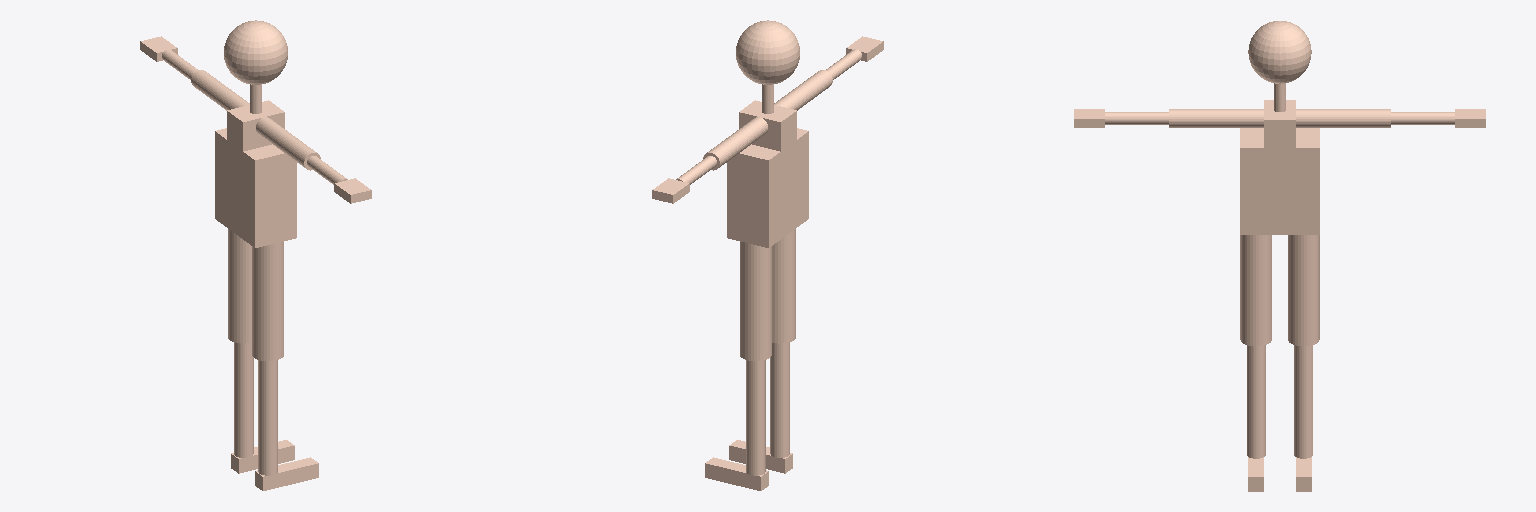
--- Render facts (derived) ---
3 views of the same robot in one strip: view 1: azimuth 30°, elevation 25°; view 2: azimuth 150°, elevation 25°; view 3: azimuth 270°, elevation 25° (orthographic).
Robot: HumanModel — 55 links, 54 joints (54 revolute); root link Pelvis; default pose: all joints at 0.
Links seen in each view (by area): view 1: MiddleTrunk, RightUpperLeg, Head, LeftUpperLeg, Pelvis, RightLowerLeg, LeftLowerLeg, UpperTrunk_Middle, RightFoot, RightUpperArm, LeftFoot, LeftUpperArm (+2 smaller); view 2: MiddleTrunk, LeftUpperLeg, Head, RightUpperLeg, Pelvis, LeftLowerLeg, RightLowerLeg, UpperTrunk_Middle, LeftFoot, LeftUpperArm, RightFoot, RightUpperArm (+2 smaller); view 3: MiddleTrunk, RightUpperLeg, LeftUpperLeg, Head, Pelvis, RightLowerLeg, LeftLowerLeg, UpperTrunk_Middle, RightUpperArm, LeftUpperArm, RightForeArm, LeftForeArm (+6 smaller).
Link boxes in pixels (x1,y1,x2,y2): MiddleTrunk: [215, 128, 296, 218]; RightUpperLeg: [252, 241, 283, 360]; Head: [224, 20, 287, 84]; LeftUpperLeg: [228, 229, 251, 343]; Pelvis: [215, 190, 296, 247]; RightLowerLeg: [258, 360, 277, 475]; LeftLowerLeg: [234, 342, 253, 457]; UpperTrunk_Middle: [227, 100, 284, 151]; RightFoot: [255, 457, 318, 490]; RightUpperArm: [272, 129, 320, 170]; LeftFoot: [231, 440, 294, 473]; LeftUpperArm: [191, 70, 235, 108]; MiddleTrunk: [727, 128, 808, 218]; LeftUpperLeg: [740, 241, 771, 360]; Head: [736, 20, 799, 84]; RightUpperLeg: [772, 229, 795, 343]; Pelvis: [727, 190, 808, 247]; LeftLowerLeg: [746, 360, 765, 475]; RightLowerLeg: [770, 342, 789, 457]; UpperTrunk_Middle: [739, 100, 796, 151]; LeftFoot: [705, 457, 768, 490]; LeftUpperArm: [703, 129, 751, 170]; RightFoot: [729, 440, 792, 473]; RightUpperArm: [788, 70, 832, 108]; MiddleTrunk: [1240, 128, 1319, 205]; RightUpperLeg: [1240, 235, 1271, 345]; LeftUpperLeg: [1288, 235, 1319, 345]; Head: [1248, 21, 1311, 83]; Pelvis: [1240, 206, 1319, 234]; RightLowerLeg: [1247, 345, 1265, 458]; LeftLowerLeg: [1294, 345, 1312, 458]; UpperTrunk_Middle: [1264, 100, 1295, 147]; RightUpperArm: [1169, 109, 1231, 127]; LeftUpperArm: [1328, 109, 1390, 127]; RightForeArm: [1105, 112, 1168, 124]; LeftForeArm: [1391, 112, 1454, 124].
Bounding box of the posed robot: 0.267 × 1.3 × 1.55 m (x, y, z).
Geometry: primitives only (box / cylinder / sphere), no mesh files.

URDF robot description (HumanModel):
<robot name="HumanModel">

    <material name="color">
        <color rgba="0.9922 00.8667 0.7922 1"/>
    </material>

    <!--LINKS-->

##############################################################################
# PELVI  ORIGIN
##############################################################################
	<!--Link base (1)-->
	<link name="Pelvis">
        <inertial>
            <mass value="4.976"/>
			<!--COM origin wrt pHipOrigin-->
            <origin xyz="0           0    0.05" rpy="0 0 0" />
            <inertia ixx="0.029678" iyy="0.011854" izz="0.033653" ixy="0" ixz="0" iyz="0"/>
        </inertial>

        <visual>
			<!--box origin wrt pHipOrigin-->
            <origin xyz="0           0    0.05" rpy="0 0 0" />
            <geometry>
                <box size="0.15     0.25    0.1"/>
            </geometry>
            <material name="color"/>
        </visual>

        <collision>
			<!--box origin wrt pHipOrigin-->
            <origin xyz="0           0    0.05" rpy="0 0 0" />
            <geometry>
                <box size="0.15     0.25    0.1"/>
            </geometry>
        </collision>
    </link>
##############################################################################
# PELVI - MIDDLETRUNK
##############################################################################
    <!--Chain from (2) to (7)-->
	<link name="MiddleTrunk_f1">
        <inertial>
            <mass value="0"/>
            <origin xyz="0 0 0" rpy="0 0 0" />
            <inertia ixx="0" iyy="0" izz="0" ixy="0" ixz="0" iyz="0"/>
        </inertial>
    </link>
	<link name="MiddleTrunk_f2">
        <inertial>
            <mass value="0"/>
            <origin xyz="0 0 0" rpy="0 0 0" />
            <inertia ixx="0" iyy="0" izz="0" ixy="0" ixz="0" iyz="0"/>
        </inertial>
    </link>
##############################################################################
# MIDDLETRUNK
##############################################################################
	<link name="MiddleTrunk">
        <inertial>
            <mass value="6.3444"/>
			<!--COM origin wrt jL5S1-->
            <origin xyz="0           0    0.1" rpy="0 0 0" />
            <inertia ixx="0.018868" iyy="0.014872" izz="0.024177" ixy="0" ixz="0" iyz="0"/>
        </inertial>

        <visual>
			<!--box origin origin wrt jL5S1-->
            <origin xyz="0           0    0.1" rpy="0 0 0" />
            <geometry>
                <box size="0.15    0.25    0.2"/>
            </geometry>
            <material name="color"/>
        </visual>

        <collision>
			<!--box origin origin wrt jL5S1-->
            <origin xyz="0           0    0.1" rpy="0 0 0" />
            <geometry>
                <box size="0.15    0.25    0.2"/>
            </geometry>
        </collision>
    </link>
##############################################################################
# MIDDLETRUNK - UPPERTRUNK_MIDDLE
##############################################################################
	<link name="UpperTrunk_Middle_f1">
        <inertial>
            <mass value="0"/>
            <origin xyz="0 0 0" rpy="0 0 0" />
            <inertia ixx="0" iyy="0" izz="0" ixy="0" ixz="0" iyz="0"/>
        </inertial>
    </link>
	<link name="UpperTrunk_Middle_f2">
        <inertial>
            <mass value="0"/>
            <origin xyz="0 0 0" rpy="0 0 0" />
            <inertia ixx="0" iyy="0" izz="0" ixy="0" ixz="0" iyz="0"/>
        </inertial>
    </link>
##############################################################################
# UPPERTRUNK_MIDDLE
##############################################################################
	<link name="UpperTrunk_Middle">
        <inertial>
            <mass value="6.3444"/>
			<!--COM origin wrt jL4L3-->
            <origin xyz="0       0    0.05" rpy="0 0 0" />
            <inertia ixx="0.017989" iyy="0.013993" izz="0.024177" ixy="0" ixz="0" iyz="0"/>
        </inertial>

        <visual>
			<!--box origin origin wrt jL4L3-->
            <origin xyz="0       0    0.05" rpy="0 0 0" />
            <geometry>
                <box size="0.15   0.1  0.1"/>
            </geometry>
            <material name="color"/>
        </visual>

        <collision>
			<!--box origin origin wrt jL4L3-->
            <origin xyz="0       0    0.05" rpy="0 0 0" />
            <geometry>
                <box size="0.15  0.1  0.1"/>
            </geometry>
        </collision>
    </link>
##############################################################################
# UPPERTRUNK_MIDDLE - UPPERTRUNK_RIGHT
##############################################################################
	<link name="UpperTrunk_Right_f1">
        <inertial>
            <mass value="0"/>
            <origin xyz="0 0 0" rpy="0 0 0" />
            <inertia ixx="0" iyy="0" izz="0" ixy="0" ixz="0" iyz="0"/>
        </inertial>
    </link>
	<link name="UpperTrunk_Right_f2">
        <inertial>
            <mass value="0"/>
            <origin xyz="0 0 0" rpy="0 0 0" />
            <inertia ixx="0" iyy="0" izz="0" ixy="0" ixz="0" iyz="0"/>
        </inertial>
    </link>
##############################################################################
# UPPERTRUNK_RIGHT
##############################################################################
	<link name="UpperTrunk_Right">
        <inertial>
            <mass value="6.3444"/>
			<!--COM origin wrt jL4L3-->
            <origin xyz="0       -0.05    0" rpy="1.5708 0 0" />
            <inertia ixx="0.017989" iyy="0.013993" izz="0.024177" ixy="0" ixz="0" iyz="0"/>
        </inertial>

        <visual>
			<!--box origin origin wrt jL4L3-->
            <origin xyz="0    -0.05   0 " rpy="1.5708 0 0" />
            <geometry>
                <cylinder length="0.1" radius="0.03"/>
            </geometry>
            <material name="color"/>
        </visual>

        <collision>
			<!--box origin origin wrt jL4L3-->
            <origin xyz="0    -0.05    0" rpy="1.5708 0 0" />
            <geometry>
                <cylinder length="0.1" radius="0.03"/>
            </geometry>
        </collision>
    </link>
##############################################################################
# UPPERTRUNK_MIDDLE - UPPERTRUNK_LEFT
##############################################################################
	<link name="UpperTrunk_Left_f1">
        <inertial>
            <mass value="0"/>
            <origin xyz="0 0 0" rpy="0 0 0" />
            <inertia ixx="0" iyy="0" izz="0" ixy="0" ixz="0" iyz="0"/>
        </inertial>
    </link>
	<link name="UpperTrunk_Left_f2">
        <inertial>
            <mass value="0"/>
            <origin xyz="0 0 0" rpy="0 0 0" />
            <inertia ixx="0" iyy="0" izz="0" ixy="0" ixz="0" iyz="0"/>
        </inertial>
    </link>    
##############################################################################
# UPPERTRUNK_LEFT
##############################################################################
	<link name="UpperTrunk_Left">
        <inertial>
            <mass value="6.3444"/>
			<!--COM origin wrt jL4L3-->
            <origin xyz="0       0.05    0" rpy="0 0 0" />
            <inertia ixx="0.017989" iyy="0.013993" izz="0.024177" ixy="0" ixz="0" iyz="0"/>
        </inertial>

        <visual>
			<!--box origin origin wrt jL4L3-->
            <origin xyz="0    0.05    0" rpy="1.5708 0 0" />
            <geometry>
                <cylinder length="0.1" radius="0.03"/>
            </geometry>
            <material name="color"/>
        </visual>

        <collision>
			<!--box origin origin wrt jL4L3-->
            <origin xyz="0    0.05    0" rpy="1.5708 0 0" />
            <geometry>
                <cylinder length="0.1" radius="0.03"/>
            </geometry>
        </collision>
    </link>
##############################################################################
# UPPERTRUNK - NECK
##############################################################################	
	<link name="Neck_f1">
        <inertial>
            <mass value="0"/>
            <origin xyz="0 0 0" rpy="0 0 0" />
            <inertia ixx="0" iyy="0" izz="0" ixy="0" ixz="0" iyz="0"/>
        </inertial>
    </link>
	<link name="Neck_f2">
        <inertial>
            <mass value="0"/>
            <origin xyz="0 0 0" rpy="0 0 0" />
            <inertia ixx="0" iyy="0" izz="0" ixy="0" ixz="0" iyz="0"/>
        </inertial>
    </link>
##############################################################################
# NECK
##############################################################################	
	<link name="Neck">
        <inertial>
            <mass value="0.7464"/>
			<!--COM origin wrt jT1C7-->
            <origin xyz="0           0    0.05" rpy="0 0 0" />
            <inertia ixx="0.0006461" iyy="0.0006461" izz="0.00030124" ixy="0" ixz="0" iyz="0"/>
        </inertial>

        <visual>
			<!--box origin wrt jT1C7-->
            <origin xyz="0           0    0.05" rpy="0 0 0" />
            <geometry>
		<cylinder length="0.1" radius="0.02"/>
            </geometry>
            <material name="color"/>
        </visual>

        <collision>
			<!--box origin wrt jT1C7-->
            <origin xyz="0           0    0.05" rpy="0 0 0" />
            <geometry>
                <cylinder length="0.1" radius="0.02"/>
            </geometry>
        </collision>
    </link>
##############################################################################
# NECK - HEAD
##############################################################################	
	<link name="Head_f1">
        <inertial>
            <mass value="0"/>
            <origin xyz="0 0 0" rpy="0 0 0" />
            <inertia ixx="0" iyy="0" izz="0" ixy="0" ixz="0" iyz="0"/>
        </inertial>
    </link>
	<link name="Head_f2">
        <inertial>
            <mass value="0"/>
            <origin xyz="0 0 0" rpy="0 0 0" />
            <inertia ixx="0" iyy="0" izz="0" ixy="0" ixz="0" iyz="0"/>
        </inertial>
    </link>
##############################################################################
# HEAD
##############################################################################	
	<link name="Head">
        <inertial>
            <mass value="2.2392"/>
			<!--COM origin wrt jC1Head-->
            <origin xyz="0           0    0.1" rpy="0 0 0" />
            <inertia ixx="0.0070955" iyy="0.0070955" izz="0.0070955" ixy="0" ixz="0" iyz="0"/>
        </inertial>

        <visual>
			<!--boc origin wrt jC1Head-->
            <origin xyz="0           0    0.1" rpy="0 0 0" />
            <geometry>
                <sphere radius="0.1"/>
            </geometry>
            <material name="color"/>
        </visual>

        <collision>
			<!--box origin wrt jC1Head-->
            <origin xyz="0           0    0.1" rpy="0 0 0" />
            <geometry>
                <sphere radius="0.1"/>
            </geometry>
        </collision>
    </link>


##############################################################################
# RIGHT SHOULDER
##############################################################################

	<!--Chain from (8) to (11)-->
	<link name="RightShoulder_f1">
        <inertial>
            <mass value="0"/>
            <origin xyz="0 0 0" rpy="0 0 0" />
            <inertia ixx="0" iyy="0" izz="0" ixy="0" ixz="0" iyz="0"/>
        </inertial>
    </link>
	<link name="RightShoulder_f2">
        <inertial>
            <mass value="0"/>
            <origin xyz="0 0 0" rpy="0 0 0" />
            <inertia ixx="0" iyy="0" izz="0" ixy="0" ixz="0" iyz="0"/>
        </inertial>
    </link>
##############################################################################
# RIGHT UPPERARM
##############################################################################
    <link name="RightUpperArm">
        <inertial>
            <mass value="1.866"/>
			<!--COM origin wrt jRightShoulder-->
            <origin xyz="0    -0.1           0" rpy="0 0 0" />
            <inertia ixx="0.011736" iyy="0.00080917" izz="0.011736" ixy="0" ixz="0" iyz="0"/>
        </inertial>

        <visual>
			<!--box origin wrt jRightShoulder. RPY rotated of pi/2.-->
            <origin xyz="0    -0.1           0" rpy="1.5708 0 0" />
            <geometry>
                <cylinder length="0.2" radius="0.03"/>
            </geometry>
            <material name="color"/>
        </visual>

        <collision>
			<!--box origin wrt jRightShoulder. RPY rotated of pi/2.-->
            <origin xyz="0    -0.1           0" rpy="1.5708 0 0" />
            <geometry>
                <cylinder length="0.2" radius="0.03"/>
            </geometry>
        </collision>
    </link>
##############################################################################
# RIGHT ELBOW
##############################################################################
	<link name="RightForeArm_f1">
        <inertial>
            <mass value="0"/>
            <origin xyz="0 0 0" rpy="0 0 0" />
            <inertia ixx="0" iyy="0" izz="0" ixy="0" ixz="0" iyz="0"/>
        </inertial>
    </link>
	<link name="RightForeArm_f2">
        <inertial>
            <mass value="0"/>
            <origin xyz="0 0 0" rpy="0 0 0" />
            <inertia ixx="0" iyy="0" izz="0" ixy="0" ixz="0" iyz="0"/>
        </inertial>
    </link>
##############################################################################
# RIGHT FOREARM
##############################################################################
	<link name="RightForeArm">
        <inertial>
            <mass value="1.244"/>
			<!--COM origin wrt jRightElbow-->
            <origin xyz="0    -0.1           0" rpy="0 0 0" />
            <inertia ixx="0.0052508" iyy="0.00023975" izz="0.0052508" ixy="0" ixz="0" iyz="0"/>
        </inertial>

        <visual>
			<!--box origin wrt jRightElbow. RPY rotated of pi/2.-->
            <origin xyz="0    -0.1           0" rpy="1.5708 0 0" />
            <geometry>
                <cylinder length="0.2" radius="0.02"/>
            </geometry>
            <material name="color"/>
        </visual>

        <collision>
			<!--box origin wrt jRightElbow. RPY rotated of pi/2.-->
            <origin xyz="0    -0.1           0" rpy="1.5708 0 0" />
            <geometry>
                <cylinder length="0.2" radius="0.02"/>
            </geometry>
        </collision>
    </link>
##############################################################################
# RIGHT WRIST
##############################################################################
	<link name="RightHand_f1">
        <inertial>
            <mass value="0"/>
            <origin xyz="0 0 0" rpy="0 0 0" />
            <inertia ixx="0" iyy="0" izz="0" ixy="0" ixz="0" iyz="0"/>
        </inertial>
    </link>
	<link name="RightHand_f2">
        <inertial>
            <mass value="0"/>
            <origin xyz="0 0 0" rpy="0 0 0" />
            <inertia ixx="0" iyy="0" izz="0" ixy="0" ixz="0" iyz="0"/>
        </inertial>
    </link>
##############################################################################
# RIGHT HAND
##############################################################################
	<link name="RightHand">
        <inertial>
            <mass value="0.3732"/>
			<!--COM origin wrt jRightWrist-->
            <origin xyz="0   -0.05           0" rpy="0 0 0" />
            <inertia ixx="0.00091713" iyy="0.00043425" izz="0.0012555" ixy="0" ixz="0" iyz="0"/>
        </inertial>

        <visual>
			<!--box origin wrt jRightWrist-->
            <origin xyz="0   -0.05           0" rpy="0 0 0" />
            <geometry>
                <box size="0.075     0.1    0.03"/>
            </geometry>
            <material name="color"/>
        </visual>

        <collision>
			<!--box origin wrt jRightWrist-->
            <origin xyz="0   -0.05           0" rpy="0 0 0" />
            <geometry>
                <box size="0.075     0.1   0.03"/>
            </geometry>
        </collision>
    </link>



##############################################################################
# LEFT SHOULDER
##############################################################################
	<!--Chain from (12) to (15)-->
	<link name="LeftShoulder_f1">
        <inertial>
            <mass value="0"/>
            <origin xyz="0 0 0" rpy="0 0 0" />
            <inertia ixx="0" iyy="0" izz="0" ixy="0" ixz="0" iyz="0"/>
        </inertial>
    </link>
	<link name="LeftShoulder_f2">
        <inertial>
            <mass value="0"/>
            <origin xyz="0 0 0" rpy="0 0 0" />
            <inertia ixx="0" iyy="0" izz="0" ixy="0" ixz="0" iyz="0"/>
        </inertial>
    </link>
##############################################################################
# LEFT UPPERARM
##############################################################################

	<link name="LeftUpperArm">
        <inertial>
            <mass value="1.866"/>
			<!--COM origin wrt jLeftShoulder-->
            <origin xyz="0     0.13          0" rpy="0 0 0" />
            <inertia ixx="0.011736" iyy="0.00080917" izz="0.011736" ixy="0" ixz="0" iyz="0"/>
        </inertial>

        <visual>
			<!--box origin wrt jLeftShoulder. RPY rotated of pi/2.-->
            <origin xyz="0     0.1           0" rpy="1.5708 0 0" />
            <geometry>
                <cylinder length="0.2" radius="0.03"/>
            </geometry>
            <material name="color"/>
        </visual>

        <collision>
			<!--box origin wrt jLeftShoulder. RPY rotated of pi/2.-->
            <origin xyz="0     0.1           0" rpy="1.5708 0 0" />
            <geometry>
                <cylinder length="0.2" radius="0.03"/>
            </geometry>
        </collision>
    </link>
##############################################################################
# LEFT ELBOW
##############################################################################
	<link name="LeftForeArm_f1">
        <inertial>
            <mass value="0"/>
            <origin xyz="0 0 0" rpy="0 0 0" />
            <inertia ixx="0" iyy="0" izz="0" ixy="0" ixz="0" iyz="0"/>
        </inertial>
    </link>
	<link name="LeftForeArm_f2">
        <inertial>
            <mass value="0"/>
            <origin xyz="0 0 0" rpy="0 0 0" />
            <inertia ixx="0" iyy="0" izz="0" ixy="0" ixz="0" iyz="0"/>
        </inertial>
    </link>
##############################################################################
# LEFT FOREARM
##############################################################################
	<link name="LeftForeArm">
        <inertial>
            <mass value="1.244"/>
			<!--COM origin wrt jLeftElbow-->
            <origin xyz="0     0.1           0" rpy="0 0 0" />
            <inertia ixx="0.0052508" iyy="0.00023975" izz="0.0052508" ixy="0" ixz="0" iyz="0"/>
        </inertial>

        <visual>
			<!--box origin wrt jLeftElbow. RPY rotated of pi/2.-->
            <origin xyz="0     0.1           0" rpy="1.5708 0 0" />
            <geometry>
                <cylinder length="0.2" radius="0.02"/>
            </geometry>
            <material name="color"/>
        </visual>

        <collision>
			<!--box origin wrt jLeftElbow. RPY rotated of pi/2.-->
            <origin xyz="0     0.1           0" rpy="1.5708 0 0" />
            <geometry>
                <cylinder length="0.2" radius="0.02"/>
            </geometry>
        </collision>
    </link>
##############################################################################
# LEFT WRIST
##############################################################################
	<link name="LeftHand_f1">
        <inertial>
            <mass value="0"/>
            <origin xyz="0 0 0" rpy="0 0 0" />
            <inertia ixx="0" iyy="0" izz="0" ixy="0" ixz="0" iyz="0"/>
        </inertial>
    </link>
	<link name="LeftHand_f2">
        <inertial>
            <mass value="0"/>
            <origin xyz="0 0 0" rpy="0 0 0" />
            <inertia ixx="0" iyy="0" izz="0" ixy="0" ixz="0" iyz="0"/>
        </inertial>
    </link>
##############################################################################
# LEFT HAND
##############################################################################
	<link name="LeftHand">
        <inertial>
            <mass value="0.3732"/>
			<!--COM origin wrt jLeftWrist-->
            <origin xyz="0    0.05           0" rpy="0 0 0" />
            <inertia ixx="0.00091713" iyy="0.00043425" izz="0.0012555" ixy="0" ixz="0" iyz="0"/>
        </inertial>

        <visual>
			<!--COM origin wrt jLeftWrist-->
            <origin xyz="0    0.05           0" rpy="0 0 0" />
            <geometry>
                <box size="0.075     0.1    0.03"/>
            </geometry>
            <material name="color"/>
        </visual>

        <collision>
			<!--COM origin wrt jLeftWrist-->
            <origin xyz="0    0.05           0" rpy="0 0 0" />
            <geometry>
                <box size="0.075     0.1    0.03"/>
            </geometry>
        </collision>

    </link>


##############################################################################
# RIGHT HIP
##############################################################################
	<!--Chain from (16) to (19)-->
	<link name="RightUpperLeg_f1">
        <inertial>
            <mass value="0"/>
            <origin xyz="0 0 0" rpy="0 0 0" />
            <inertia ixx="0" iyy="0" izz="0" ixy="0" ixz="0" iyz="0"/>
        </inertial>
    </link>
	<link name="RightUpperLeg_f2">
        <inertial>
            <mass value="0"/>
            <origin xyz="0 0 0" rpy="0 0 0" />
            <inertia ixx="0" iyy="0" izz="0" ixy="0" ixz="0" iyz="0"/>
        </inertial>
    </link>
##############################################################################
# RIGHT UPPERLEG
##############################################################################
    <link name="RightUpperLeg">
        <inertial>
            <mass value="7.775"/>
			<!--COM origin wrt jRightHip-->
            <origin xyz="0           0    -0.2" rpy="0 0 0" />
            <inertia ixx="0.13681" iyy="0.13681" izz="0.01241" ixy="0" ixz="0" iyz="0"/>
        </inertial>

        <visual>
			<!--box origin wrt jRightHip-->
            <origin xyz="0           0    -0.2" rpy="0 0 0" />
            <geometry>
                <cylinder length="0.4" radius="0.05"/>
            </geometry>
            <material name="color"/>
        </visual>

        <collision>
			<!--box origin wrt jRightHip-->
            <origin xyz="0           0    -0.2" rpy="0 0 0" />
            <geometry>
                <cylinder length="0.4" radius="0.05"/>
            </geometry>
        </collision>
     </link>
##############################################################################
# RIGHT KNEE
##############################################################################

	<link name="RightLowerLeg_f1">
        <inertial>
            <mass value="0"/>
            <origin xyz="0 0 0" rpy="0 0 0" />
            <inertia ixx="0" iyy="0" izz="0" ixy="0" ixz="0" iyz="0"/>
        </inertial>
    </link>
	<link name="RightLowerLeg_f2">
        <inertial>
            <mass value="0"/>
            <origin xyz="0 0 0" rpy="0 0 0" />
            <inertia ixx="0" iyy="0" izz="0" ixy="0" ixz="0" iyz="0"/>
        </inertial>
    </link>
##############################################################################
# RIGHT LOWERLEG
##############################################################################
    <link name="RightLowerLeg">
        <inertial>
            <mass value="2.2703"/>
			<!--COM origin wrt jRightKnee-->
            <origin xyz="0           0    -0.2" rpy="0 0 0" />
            <inertia ixx="0.031992" iyy="0.031992" izz="0.0015867" ixy="0" ixz="0" iyz="0"/>
        </inertial>

        <visual>
			<!--box origin wrt jRightKnee-->
            <origin xyz="0           0    -0.2" rpy="0 0 0" />
            <geometry>
                <cylinder length="0.4" radius="0.03"/>
            </geometry>
            <material name="color"/>
        </visual>

        <collision>
			<!--box origin wrt jRightKnee-->
            <origin xyz="0           0    -0.2" rpy="0 0 0" />
            <geometry>
                <cylinder length="0.4" radius="0.03"/>
            </geometry>
        </collision>
    </link>
##############################################################################
# RIGHT ANKLE
############################################################################## 
	<link name="RightFoot_f1">
        <inertial>
            <mass value="0"/>
            <origin xyz="0 0 0" rpy="0 0 0" />
            <inertia ixx="0" iyy="0" izz="0" ixy="0" ixz="0" iyz="0"/>
        </inertial>
    </link>
	<link name="RightFoot_f2">
        <inertial>
            <mass value="0"/>
            <origin xyz="0 0 0" rpy="0 0 0" />
            <inertia ixx="0" iyy="0" izz="0" ixy="0" ixz="0" iyz="0"/>
        </inertial>
    </link>
##############################################################################
# RIGHT FOOT
##############################################################################
    <link name="RightFoot">
        <inertial>
            <mass value="0.8086"/>
			<!--COM origin wrt jRightAnkle-->
            <origin xyz="0.067     0   -0.025" rpy="0 0 0" />
            <inertia ixx="0.00079209" iyy="0.0025944" izz="0.0025558" ixy="0" ixz="0" iyz="0"/>
        </inertial>

        <visual>
			<!--box origin wrt jRightAnkle-->
	    	<origin xyz="0.067     0   -0.025" rpy="0 0 0" />
            <geometry>
                <box size="0.2    0.05    0.05"/>
            </geometry>
            <material name="color"/>
        </visual>

        <collision>
			<!--box origin wrt jRightAnkle-->
		    <origin xyz="0.067     0   -0.025" rpy="0 0 0" />
	            <geometry>
	                <box size="0.2    0.05    0.05"/>
	            </geometry>
        </collision>

    </link>



##############################################################################
# LEFT HIP
##############################################################################	
	<!--Chain from (20) to (23)-->
	<link name="LeftUpperLeg_f1">
        <inertial>
            <mass value="0"/>
            <origin xyz="0 0 0" rpy="0 0 0" />
            <inertia ixx="0" iyy="0" izz="0" ixy="0" ixz="0" iyz="0"/>
        </inertial>
    </link>
	<link name="LeftUpperLeg_f2">
        <inertial>
            <mass value="0"/>
            <origin xyz="0 0 0" rpy="0 0 0" />
            <inertia ixx="0" iyy="0" izz="0" ixy="0" ixz="0" iyz="0"/>
        </inertial>
    </link>
##############################################################################
# LEFT UPPERLEG
##############################################################################
    <link name="LeftUpperLeg">
        <inertial>
            <mass value="7.775"/>
			<!--COM origin wrt jLeftHip-->
            <origin xyz="0           0    -0.2" rpy="0 0 0" />
            <inertia ixx="0.13681" iyy="0.13681" izz="0.01241" ixy="0" ixz="0" iyz="0"/>
        </inertial>

        <visual>
			<!--box origin wrt jLeftHip-->
            <origin xyz="0           0    -0.2" rpy="0 0 0" />
            <geometry>
                <cylinder length="0.4" radius="0.05"/>
            </geometry>
            <material name="color"/>
        </visual>

        <collision>
			<!--box origin wrt jLeftHip-->
            <origin xyz="0           0    -0.2" rpy="0 0 0" />
            <geometry>
                <cylinder length="0.4" radius="0.05"/>
            </geometry>
        </collision>
##############################################################################
# LEFT KNEE
##############################################################################
    </link>
	<link name="LeftLowerLeg_f1">
        <inertial>
            <mass value="0"/>
            <origin xyz="0 0 0" rpy="0 0 0" />
            <inertia ixx="0" iyy="0" izz="0" ixy="0" ixz="0" iyz="0"/>
        </inertial>
    </link>
	<link name="LeftLowerLeg_f2">
        <inertial>
            <mass value="0"/>
            <origin xyz="0 0 0" rpy="0 0 0" />
            <inertia ixx="0" iyy="0" izz="0" ixy="0" ixz="0" iyz="0"/>
        </inertial>
    </link>
##############################################################################
# LEFT LOWERLEG
##############################################################################
	<link name="LeftLowerLeg">
        <inertial>
            <mass value="2.2703"/>
			<!--COM origin wrt jLeftKnee-->
            <origin xyz="0           0    -0.2" rpy="0 0 0" />
            <inertia ixx="0.031992" iyy="0.031992" izz="0.0015867" ixy="0" ixz="0" iyz="0"/>
        </inertial>

        <visual>
			<!--box origin wrt jLeftKnee-->
            <origin xyz="0           0    -0.2" rpy="0 0 0" />
            <geometry>
		        <cylinder length="0.4" radius="0.03"/>
            </geometry>
            <material name="color"/>
        </visual>

        <collision>
			<!--box origin wrt jLeftKnee-->
            <origin xyz="0           0    -0.2" rpy="0 0 0" />
            <geometry>
		        <cylinder length="0.4" radius="0.03"/>
            </geometry>
        </collision>

    </link>
##############################################################################
# LEFT ANKLE
##############################################################################
	<link name="LeftFoot_f1">
        <inertial>
            <mass value="0"/>
            <origin xyz="0 0 0" rpy="0 0 0" />
            <inertia ixx="0" iyy="0" izz="0" ixy="0" ixz="0" iyz="0"/>
        </inertial>
    </link>
	<link name="LeftFoot_f2">
        <inertial>
            <mass value="0"/>
            <origin xyz="0 0 0" rpy="0 0 0" />
            <inertia ixx="0" iyy="0" izz="0" ixy="0" ixz="0" iyz="0"/>
        </inertial>
    </link>
##############################################################################
# LEFT FOOT
##############################################################################
    <link name="LeftFoot">
        <inertial>
            <mass value="0.8086"/>
			<!--COM origin wrt jLeftAnkle-->
            <origin xyz="0.067         0   -0.025" rpy="0 0 0" />
            <inertia ixx="0.00079209" iyy="0.0025944" izz="0.0025558" ixy="0" ixz="0" iyz="0"/>
        </inertial>

        <visual>
			<!--box origin wrt jLeftAnkle-->
	   	 	<origin xyz="0.067         0   -0.025" rpy="0 0 0" />
            <geometry>
                <box size="0.2    0.05    0.05"/>
            </geometry>
            <material name="color"/>
        </visual>

        <collision>
			<!--box origin wrt jLeftAnkle-->
		    <origin xyz="0.067         0   -0.025" rpy="0 0 0" />
	            <geometry>
	                <box size="0.2    0.05    0.05"/>
	            </geometry>
        </collision>

    </link>



<!--JOINTS-->



##############################################################################
# PELVI - MIDDLETRUNK
##############################################################################
	
	<!--Chain from (2) to (7)-->
	<joint name="jL5S1_rotx" type="revolute">
        <origin xyz="0          0    0.1" rpy="0 0 0"/>
        <parent link="Pelvis"/>
        <child link="MiddleTrunk_f1"/>
        <dynamics damping="0.1" friction="0.0"/>
        <limit effort="30" velocity="1.0" lower="-10.0" upper="10.0" />
        <axis xyz="1 0 0" />
    </joint>
	<joint name="jL5S1_roty" type="revolute">
        <origin xyz="0 0 0" rpy="0 0 0"/>
        <parent link="MiddleTrunk_f1"/>
        <child link="MiddleTrunk_f2"/>
        <dynamics damping="0.1" friction="0.0"/>
        <limit effort="30" velocity="1.0" lower="-10.0" upper="10.0" />
        <axis xyz="0 1 0" />
    </joint>
    <joint name="jL5S1_rotz" type="revolute">
        <origin xyz="0 0 0" rpy="0 0 0"/>
        <parent link="MiddleTrunk_f2"/>
        <child link="MiddleTrunk"/>
        <dynamics damping="0.1" friction="0.0"/>
        <limit effort="30" velocity="1.0" lower="-10.0" upper="10.0" />
        <axis xyz="0 0 1" />
    </joint>
##############################################################################
# MIDDLETRUNK - UPPERTRUNK_MIDDLE
##############################################################################

	<joint name="jL4L3_rotx" type="revolute">
        <origin xyz="0      0    0.2" rpy="0 0 0"/>
        <parent link="MiddleTrunk"/>
        <child link="UpperTrunk_Middle_f1"/>
        <dynamics damping="0.1" friction="0.0"/>
        <limit effort="30" velocity="1.0" lower="-10.0" upper="10.0" />
        <axis xyz="1 0 0" />
    </joint>
	<joint name="jL4L3_roty" type="revolute">
        <origin xyz="0 0 0" rpy="0 0 0"/>
        <parent link="UpperTrunk_Middle_f1"/>
        <child link="UpperTrunk_Middle_f2"/>
        <dynamics damping="0.1" friction="0.0"/>
        <limit effort="30" velocity="1.0" lower="-10.0" upper="10.0" />
        <axis xyz="0 1 0" />
    </joint>
    <joint name="jL4L3_rotz" type="revolute">
        <origin xyz="0 0 0" rpy="0 0 0"/>
        <parent link="UpperTrunk_Middle_f2"/>
        <child link="UpperTrunk_Middle"/>
        <dynamics damping="0.1" friction="0.0"/>
        <limit effort="30" velocity="1.0" lower="-10.0" upper="10.0" />
        <axis xyz="0 0 1" />
    </joint>
##############################################################################
# UPPERTRUNK_MIDDLE - UPPERTRUNK_RIGHT
##############################################################################

	<!--Chain from (8) to (11)-->
	<joint name="jT1C7_Right_rotx" type="revolute">
        <origin xyz="0   -0.05    0.07" rpy="0 0 0"/>
        <parent link="UpperTrunk_Middle"/>
        <child link="UpperTrunk_Right_f1"/>
        <dynamics damping="0.1" friction="0.0"/>
        <limit effort="30" velocity="1.0" lower="-10.0" upper="10.0" />
        <axis xyz="1 0 0" />
    </joint>
	<joint name="jT1C7_Right_roty" type="revolute">
        <origin xyz="0 0 0" rpy="0 0 0"/>
        <parent link="UpperTrunk_Right_f1"/>
        <child link="UpperTrunk_Right_f2"/>
        <dynamics damping="0.1" friction="0.0"/>
        <limit effort="30" velocity="1.0" lower="-10.0" upper="10.0" />
        <axis xyz="0 1 0" />
    </joint>
    <joint name="jT1C7_Right_rotz" type="revolute">
        <origin xyz="0 0 0" rpy="0 0 0"/>
        <parent link="UpperTrunk_Right_f2"/>
        <child link="UpperTrunk_Right"/>
        <dynamics damping="0.1" friction="0.0"/>
        <limit effort="30" velocity="1.0" lower="-10.0" upper="10.0" />
        <axis xyz="0 0 1" />
    </joint>

##############################################################################
# UPPERTRUNK_MIDDLE - UPPERTRUNK_LEFT
##############################################################################

	<!--Chain from (8) to (11)-->
	<joint name="jT1C7_Left_rotx" type="revolute">
        <origin xyz="0   0.05    0.07" rpy="0 0 0"/>
        <parent link="UpperTrunk_Middle"/>
        <child link="UpperTrunk_Left_f1"/>
        <dynamics damping="0.1" friction="0.0"/>
        <limit effort="30" velocity="1.0" lower="-10.0" upper="10.0" />
        <axis xyz="1 0 0" />
    </joint>
	<joint name="jT1C7_Left_roty" type="revolute">
        <origin xyz="0 0 0" rpy="0 0 0"/>
        <parent link="UpperTrunk_Left_f1"/>
        <child link="UpperTrunk_Left_f2"/>
        <dynamics damping="0.1" friction="0.0"/>
        <limit effort="30" velocity="1.0" lower="-10.0" upper="10.0" />
        <axis xyz="0 1 0" />
    </joint>
    <joint name="jT1C7_Left_rotz" type="revolute">
        <origin xyz="0 0 0" rpy="0 0 0"/>
        <parent link="UpperTrunk_Left_f2"/>
        <child link="UpperTrunk_Left"/>
        <dynamics damping="0.1" friction="0.0"/>
        <limit effort="30" velocity="1.0" lower="-10.0" upper="10.0" />
        <axis xyz="0 0 1" />
    </joint>
##############################################################################
# UPPERTRUNK_MIDDLE - NECK
##############################################################################

	<joint name="jT1C7_rotx" type="revolute">
        <origin xyz="0        0     0.1" rpy="0 0 0"/>
        <parent link="UpperTrunk_Middle"/>
        <child link="Neck_f1"/>
        <dynamics damping="0.1" friction="0.0"/>
        <limit effort="30" velocity="1.0" lower="-10.0" upper="10.0" />
        <axis xyz="1 0 0" />
    </joint>
	<joint name="jT1C7_roty" type="revolute">
        <origin xyz="0 0 0" rpy="0 0 0"/>
        <parent link="Neck_f1"/>
        <child link="Neck_f2"/>
        <dynamics damping="0.1" friction="0.0"/>
        <limit effort="30" velocity="1.0" lower="-10.0" upper="10.0" />
        <axis xyz="0 1 0" />
    </joint>
    <joint name="jT1C7_rotz" type="revolute">
        <origin xyz="0 0 0" rpy="0 0 0"/>
        <parent link="Neck_f2"/>
        <child link="Neck"/>
        <dynamics damping="0.1" friction="0.0"/>
        <limit effort="30" velocity="1.0" lower="-10.0" upper="10.0" />
        <axis xyz="0 0 1" />
    </joint>
##############################################################################
# NECK - HEAD
##############################################################################  
	<joint name="jC1Head_rotx" type="revolute">
        <origin xyz="0           0    0.1" rpy="0 0 0"/>
        <parent link="Neck"/>
        <child link="Head_f1"/>
        <dynamics damping="0.1" friction="0.0"/>
        <limit effort="30" velocity="1.0" lower="-10.0" upper="10.0" />
        <axis xyz="1 0 0" />
    </joint>
	<joint name="jC1Head_roty" type="revolute">
        <origin xyz="0 0 0" rpy="0 0 0"/>
        <parent link="Head_f1"/>
        <child link="Head_f2"/>
        <dynamics damping="0.1" friction="0.0"/>
        <limit effort="30" velocity="1.0" lower="-10.0" upper="10.0" />
        <axis xyz="0 1 0" />
    </joint>
    <joint name="jC1Head_rotz" type="revolute">
        <origin xyz="0 0 0" rpy="0 0 0"/>
        <parent link="Head_f2"/>
        <child link="Head"/>
        <dynamics damping="0.1" friction="0.0"/>
        <limit effort="30" velocity="1.0" lower="-10.0" upper="10.0" />
        <axis xyz="0 0 1" />
    </joint>


##############################################################################
# RIGHT SHOULDER
##############################################################################

	<!--Chain from (8) to (11)-->
	<joint name="jRightC7Shoulder_rotx" type="revolute">
        <origin xyz="0   -0.1    0" rpy="0 0 0"/>
        <parent link="UpperTrunk_Right"/>
        <child link="RightShoulder_f1"/>
        <dynamics damping="0.1" friction="0.0"/>
        <limit effort="30" velocity="1.0" lower="-10.0" upper="10.0" />
        <axis xyz="1 0 0" />
    </joint>
	<joint name="jRightC7Shoulder_roty" type="revolute">
        <origin xyz="0 0 0" rpy="0 0 0"/>
        <parent link="RightShoulder_f1"/>
        <child link="RightShoulder_f2"/>
        <dynamics damping="0.1" friction="0.0"/>
        <limit effort="30" velocity="1.0" lower="-10.0" upper="10.0" />
        <axis xyz="0 1 0" />
    </joint>
    <joint name="jRightC7Shoulder_rotz" type="revolute">
        <origin xyz="0 0 0" rpy="0 0 0"/>
        <parent link="RightShoulder_f2"/>
        <child link="RightUpperArm"/>
        <dynamics damping="0.1" friction="0.0"/>
        <limit effort="30" velocity="1.0" lower="-10.0" upper="10.0" />
        <axis xyz="0 0 1" />
    </joint>
##############################################################################
# RIGHT ELBOW
##############################################################################
	<joint name="jRightElbow_rotx" type="revolute">
        <origin xyz="0    -0.2   0" rpy="0 0 0"/>
        <parent link="RightUpperArm"/>
        <child link="RightForeArm_f1"/>
        <dynamics damping="0.1" friction="0.0"/>
        <limit effort="30" velocity="1.0" lower="-10.0" upper="10.0" />
        <axis xyz="1 0 0" />
    </joint>
	<joint name="jRightElbow_roty" type="revolute">
        <origin xyz="0 0 0" rpy="0 0 0"/>
        <parent link="RightForeArm_f1"/>
        <child link="RightForeArm_f2"/>
        <dynamics damping="0.1" friction="0.0"/>
        <limit effort="30" velocity="1.0" lower="-10.0" upper="10.0" />
        <axis xyz="0 1 0" />
    </joint>
    <joint name="jRightElbow_rotz" type="revolute">
        <origin xyz="0 0 0" rpy="0 0 0"/>
        <parent link="RightForeArm_f2"/>
        <child link="RightForeArm"/>
        <dynamics damping="0.1" friction="0.0"/>
        <limit effort="30" velocity="1.0" lower="-10.0" upper="10.0" />
        <axis xyz="0 0 1" />
    </joint>
##############################################################################
# RIGHT WRIST
##############################################################################
	<joint name="jRightWrist_rotx" type="revolute">
        <origin xyz="0    -0.2           0" rpy="0 0 0"/>
        <parent link="RightForeArm"/>
        <child link="RightHand_f1"/>
        <dynamics damping="0.1" friction="0.0"/>
        <limit effort="30" velocity="1.0" lower="-10.0" upper="10.0" />
        <axis xyz="1 0 0" />
    </joint>
	<joint name="jRightWrist_roty" type="revolute">
        <origin xyz="0 0 0" rpy="0 0 0"/>
        <parent link="RightHand_f1"/>
        <child link="RightHand_f2"/>
        <dynamics damping="0.1" friction="0.0"/>
        <limit effort="30" velocity="1.0" lower="-10.0" upper="10.0" />
        <axis xyz="0 1 0" />
    </joint>
    <joint name="jRightWrist_rotz" type="revolute">
        <origin xyz="0 0 0" rpy="0 0 0"/>
        <parent link="RightHand_f2"/>
        <child link="RightHand"/>
        <dynamics damping="0.1" friction="0.0"/>
        <limit effort="30" velocity="1.0" lower="-10.0" upper="10.0" />
        <axis xyz="0 0 1" />
    </joint>



##############################################################################
# LEFT SHOULDER
##############################################################################
	<!--Chain from (12) to (15)-->
	<joint name="jLeftC7Shoulder_rotx" type="revolute">
        <origin xyz="0    0.1    0" rpy="0 0 0"/>
        <parent link="UpperTrunk_Left"/>
        <child link="LeftShoulder_f1"/>
        <dynamics damping="0.1" friction="0.0"/>
        <limit effort="30" velocity="1.0" lower="-10.0" upper="10.0" />
        <axis xyz="1 0 0" />
    </joint>
	<joint name="jLeftC7Shoulder_roty" type="revolute">
        <origin xyz="0 0 0" rpy="0 0 0"/>
        <parent link="LeftShoulder_f1"/>
        <child link="LeftShoulder_f2"/>
        <dynamics damping="0.1" friction="0.0"/>
        <limit effort="30" velocity="1.0" lower="-10.0" upper="10.0" />
        <axis xyz="0 1 0" />
    </joint>
    <joint name="jLeftC7Shoulder_rotz" type="revolute">
        <origin xyz="0 0 0" rpy="0 0 0"/>
        <parent link="LeftShoulder_f2"/>
        <child link="LeftUpperArm"/>
        <dynamics damping="0.1" friction="0.0"/>
        <limit effort="30" velocity="1.0" lower="-10.0" upper="10.0" />
        <axis xyz="0 0 1" />
    </joint>
##############################################################################
# LEFT ELBOW
##############################################################################
    <joint name="jLeftElbow_rotx" type="revolute">
        <origin xyz="0     0.2           0" rpy="0 0 0"/>
        <parent link="LeftUpperArm"/>
        <child link="LeftForeArm_f1"/>
        <dynamics damping="0.1" friction="0.0"/>
        <limit effort="30" velocity="1.0" lower="-10.0" upper="10.0" />
        <axis xyz="1 0 0" />
    </joint>
	<joint name="jLeftElbow_roty" type="revolute">
        <origin xyz="0 0 0" rpy="0 0 0"/>
        <parent link="LeftForeArm_f1"/>
        <child link="LeftForeArm_f2"/>
        <dynamics damping="0.1" friction="0.0"/>
        <limit effort="30" velocity="1.0" lower="-10.0" upper="10.0" />
        <axis xyz="0 1 0" />
    </joint>
    <joint name="jLeftElbow_rotz" type="revolute">
        <origin xyz="0 0 0" rpy="0 0 0"/>
        <parent link="LeftForeArm_f2"/>
        <child link="LeftForeArm"/>
        <dynamics damping="0.1" friction="0.0"/>
        <limit effort="30" velocity="1.0" lower="-10.0" upper="10.0" />
        <axis xyz="0 0 1" />
    </joint>
##############################################################################
# LEFT WRIST
##############################################################################
	<joint name="jLeftWrist_rotx" type="revolute">
        <origin xyz="0     0.2         0" rpy="0 0 0"/>
        <parent link="LeftForeArm"/>
        <child link="LeftHand_f1"/>
        <dynamics damping="0.1" friction="0.0"/>
        <limit effort="30" velocity="1.0" lower="-10.0" upper="10.0" />
        <axis xyz="1 0 0" />
    </joint>
	<joint name="jLeftWrist_roty" type="revolute">
        <origin xyz="0 0 0" rpy="0 0 0"/>
        <parent link="LeftHand_f1"/>
        <child link="LeftHand_f2"/>
        <dynamics damping="0.1" friction="0.0"/>
        <limit effort="30" velocity="1.0" lower="-10.0" upper="10.0" />
        <axis xyz="0 1 0" />
    </joint>
    <joint name="jLeftWrist_rotz" type="revolute">
        <origin xyz="0 0 0" rpy="0 0 0"/>
        <parent link="LeftHand_f2"/>
        <child link="LeftHand"/>
        <dynamics damping="0.1" friction="0.0"/>
        <limit effort="30" velocity="1.0" lower="-10.0" upper="10.0" />
        <axis xyz="0 0 1" />
    </joint>




##############################################################################
# RIGHT HIP
##############################################################################
	<!--Chain from (16) to (19)-->
	<joint name="jRightHip_rotx" type="revolute">
        <origin xyz="0   -0.075    0" rpy="0 0 0"/>
        <parent link="Pelvis"/>
        <child link="RightUpperLeg_f1"/>
        <dynamics damping="0.1" friction="0.0"/>
        <limit effort="30" velocity="1.0" lower="-10.0" upper="10.0" />
        <axis xyz="1 0 0" />
    </joint>
	<joint name="jRightHip_roty" type="revolute">
        <origin xyz="0 0 0" rpy="0 0 0"/>
        <parent link="RightUpperLeg_f1"/>
        <child link="RightUpperLeg_f2"/>
        <dynamics damping="0.1" friction="0.0"/>
        <limit effort="30" velocity="1.0" lower="-10.0" upper="10.0" />
        <axis xyz="0 1 0" />
    </joint>
    <joint name="jRightHip_rotz" type="revolute">
        <origin xyz="0 0 0" rpy="0 0 0"/>
        <parent link="RightUpperLeg_f2"/>
        <child link="RightUpperLeg"/>
        <dynamics damping="0.1" friction="0.0"/>
        <limit effort="30" velocity="1.0" lower="-10.0" upper="10.0" />
        <axis xyz="0 0 1" />
    </joint>
##############################################################################
# RIGHT KNEE
##############################################################################
	<joint name="jRightKnee_rotx" type="revolute">
        <origin xyz="0    0    -0.4" rpy="0 0 0"/>
        <parent link="RightUpperLeg"/>
        <child link="RightLowerLeg_f1"/>
        <dynamics damping="0.1" friction="0.0"/>
        <limit effort="30" velocity="1.0" lower="-10.0" upper="10.0" />
        <axis xyz="1 0 0" />
    </joint>
	<joint name="jRightKnee_roty" type="revolute">
        <origin xyz="0 0 0" rpy="0 0 0"/>
        <parent link="RightLowerLeg_f1"/>
        <child link="RightLowerLeg_f2"/>
        <dynamics damping="0.1" friction="0.0"/>
        <limit effort="30" velocity="1.0" lower="-10.0" upper="10.0" />
        <axis xyz="0 1 0" />
    </joint>
    <joint name="jRightKnee_rotz" type="revolute">
        <origin xyz="0 0 0" rpy="0 0 0"/>
        <parent link="RightLowerLeg_f2"/>
        <child link="RightLowerLeg"/>
        <dynamics damping="0.1" friction="0.0"/>
        <limit effort="30" velocity="1.0" lower="-10.0" upper="10.0" />
        <axis xyz="0 0 1" />
    </joint>
##############################################################################
# RIGHT ANKLE
##############################################################################
	<joint name="jRightAnkle_rotx" type="revolute">
        <origin xyz="0      0    -0.4" rpy="0 0 0"/>
        <parent link="RightLowerLeg"/>
        <child link="RightFoot_f1"/>
        <dynamics damping="0.1" friction="0.0"/>
        <limit effort="30" velocity="1.0" lower="-10.0" upper="10.0" />
        <axis xyz="1 0 0" />
    </joint>
	<joint name="jRightAnkle_roty" type="revolute">
        <origin xyz="0 0 0" rpy="0 0 0"/>
        <parent link="RightFoot_f1"/>
        <child link="RightFoot_f2"/>
        <dynamics damping="0.1" friction="0.0"/>
        <limit effort="30" velocity="1.0" lower="-10.0" upper="10.0" />
        <axis xyz="0 1 0" />
    </joint>
    <joint name="jRightAnkle_rotz" type="revolute">
        <origin xyz="0 0 0" rpy="0 0 0"/>
        <parent link="RightFoot_f2"/>
        <child link="RightFoot"/>
        <dynamics damping="0.1" friction="0.0"/>
        <limit effort="30" velocity="1.0" lower="-10.0" upper="10.0" />
        <axis xyz="0 0 1" />
    </joint>




##############################################################################
# LEFT HIP
##############################################################################
	<!--Chain from (20) to (23)-->
	<joint name="jLeftHip_rotx" type="revolute">
        <origin xyz="0   0.075    0" rpy="0 0 0"/>
        <parent link="Pelvis"/>
        <child link="LeftUpperLeg_f1"/>
        <dynamics damping="0.1" friction="0.0"/>
        <limit effort="30" velocity="1.0" lower="-10.0" upper="10.0" />
        <axis xyz="1 0 0" />
    </joint>
	<joint name="jLeftHip_roty" type="revolute">
        <origin xyz="0 0 0" rpy="0 0 0"/>
        <parent link="LeftUpperLeg_f1"/>
        <child link="LeftUpperLeg_f2"/>
        <dynamics damping="0.1" friction="0.0"/>
        <limit effort="30" velocity="1.0" lower="-10.0" upper="10.0" />
        <axis xyz="0 1 0" />
    </joint>
    <joint name="jLeftHip_rotz" type="revolute">
        <origin xyz="0 0 0" rpy="0 0 0"/>
        <parent link="LeftUpperLeg_f2"/>
        <child link="LeftUpperLeg"/>
        <dynamics damping="0.1" friction="0.0"/>
        <limit effort="30" velocity="1.0" lower="-10.0" upper="10.0" />
        <axis xyz="0 0 1" />
    </joint>
##############################################################################
# LEFT KNEE
##############################################################################
	<joint name="jLeftKnee_rotx" type="revolute">
        <origin xyz=" 0      0    -0.4" rpy="0 0 0"/>
        <parent link="LeftUpperLeg"/>
        <child link="LeftLowerLeg_f1"/>
        <dynamics damping="0.1" friction="0.0"/>
        <limit effort="30" velocity="1.0" lower="-10.0" upper="10.0" />
        <axis xyz="1 0 0" />
    </joint>
	<joint name="jLeftKnee_roty" type="revolute">
        <origin xyz="0 0 0" rpy="0 0 0"/>
        <parent link="LeftLowerLeg_f1"/>
        <child link="LeftLowerLeg_f2"/>
        <dynamics damping="0.1" friction="0.0"/>
        <limit effort="30" velocity="1.0" lower="-10.0" upper="10.0" />
        <axis xyz="0 1 0" />
    </joint>
    <joint name="jLeftKnee_rotz" type="revolute">
        <origin xyz="0 0 0" rpy="0 0 0"/>
        <parent link="LeftLowerLeg_f2"/>
        <child link="LeftLowerLeg"/>
        <dynamics damping="0.1" friction="0.0"/>
        <limit effort="30" velocity="1.0" lower="-10.0" upper="10.0" />
        <axis xyz="0 0 1" />
    </joint>
##############################################################################
# LEFT ANKLE
##############################################################################
	<joint name="jLeftAnkle_rotx" type="revolute">
        <origin xyz="0          0    -0.4" rpy="0 0 0"/>
        <parent link="LeftLowerLeg"/>
        <child link="LeftFoot_f1"/>
        <dynamics damping="0.1" friction="0.0"/>
        <limit effort="30" velocity="1.0" lower="-10.0" upper="10.0" />
        <axis xyz="1 0 0" />
    </joint>
	<joint name="jLeftAnkle_roty" type="revolute">
        <origin xyz="0 0 0" rpy="0 0 0"/>
        <parent link="LeftFoot_f1"/>
        <child link="LeftFoot_f2"/>
        <dynamics damping="0.1" friction="0.0"/>
        <limit effort="30" velocity="1.0" lower="-10.0" upper="10.0" />
        <axis xyz="0 1 0" />
    </joint>
    <joint name="jLeftAnkle_rotz" type="revolute">
        <origin xyz="0 0 0" rpy="0 0 0"/>
        <parent link="LeftFoot_f2"/>
        <child link="LeftFoot"/>
        <dynamics damping="0.1" friction="0.0"/>
        <limit effort="30" velocity="1.0" lower="-10.0" upper="10.0" />
        <axis xyz="0 0 1" />
    </joint>


</robot>
